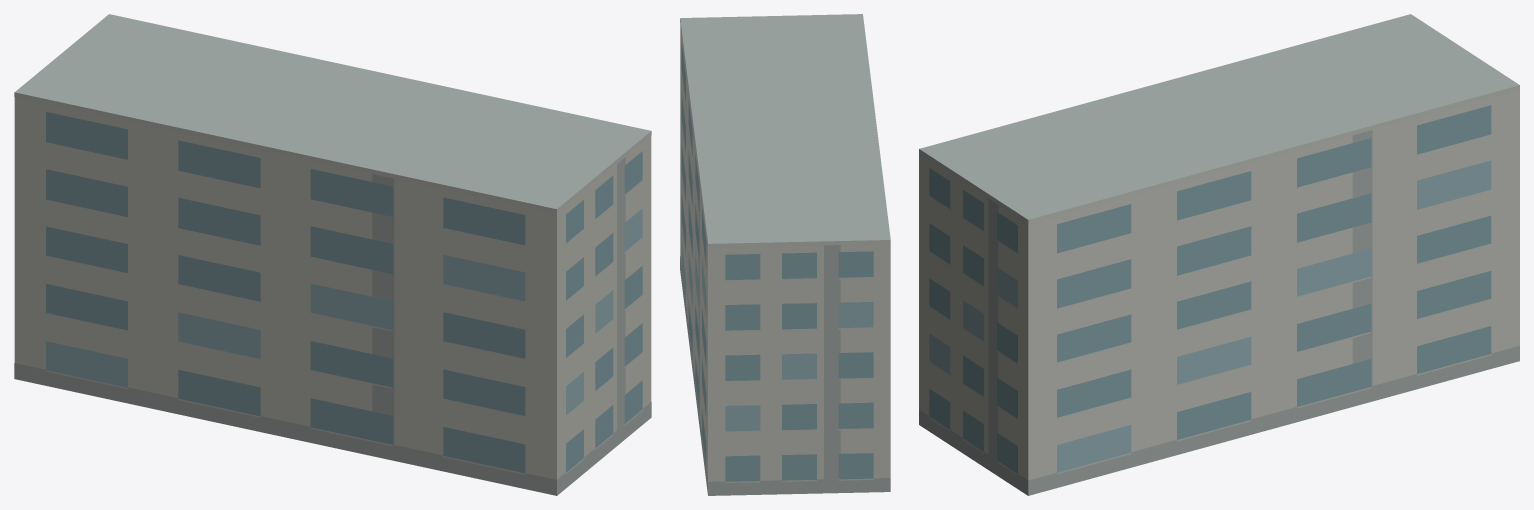
File: residential-7cc06b3b-a888-494a-91ae-32aa1d67e456.glb
The picture shows the model from 3 angles, left to right: view 1: azimuth 30°, elevation 25°; view 2: azimuth 150°, elevation 25°; view 3: azimuth 270°, elevation 25°; orthographic projection. The views are drawn at different scales.
Visible parts, largest first — view 1: residential-7cc06b3b-a888-494a-91ae-32aa1d67e456.tmp; view 2: residential-7cc06b3b-a888-494a-91ae-32aa1d67e456.tmp; view 3: residential-7cc06b3b-a888-494a-91ae-32aa1d67e456.tmp.
Boxes of the visible parts, <box> form: residential-7cc06b3b-a888-494a-91ae-32aa1d67e456.tmp: <box>14,14,651,495</box>; residential-7cc06b3b-a888-494a-91ae-32aa1d67e456.tmp: <box>680,14,890,495</box>; residential-7cc06b3b-a888-494a-91ae-32aa1d67e456.tmp: <box>919,14,1519,495</box>.
Size of the model in its own units: 24.4 by 15.25 by 30.09.
